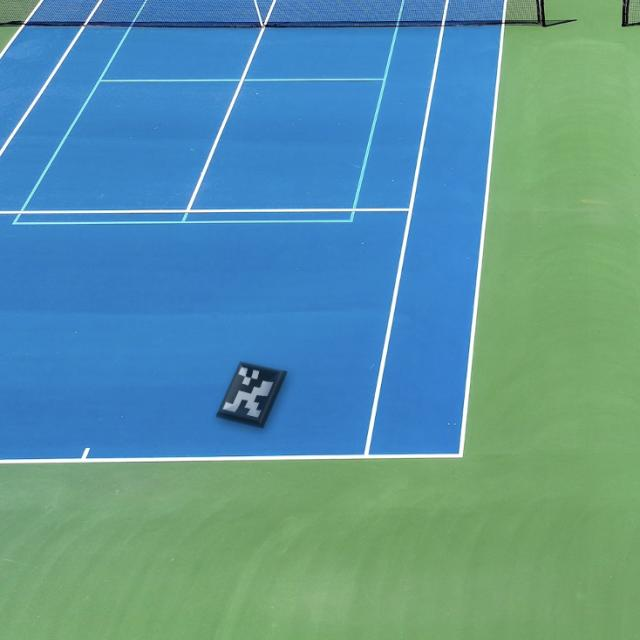marker: (208, 355, 298, 437)
